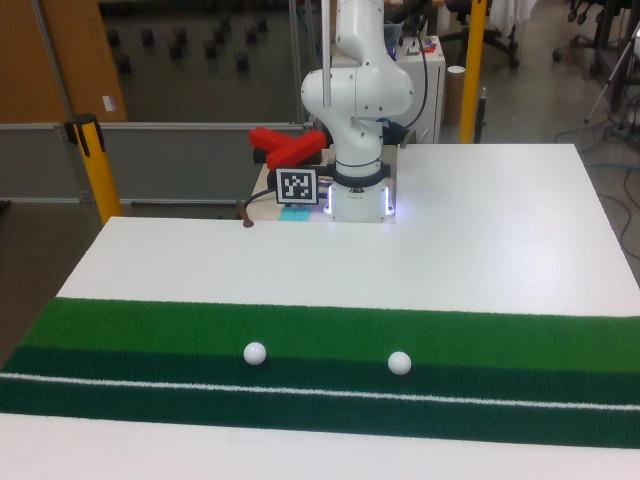golf_balls: (388, 351, 411, 375), (244, 342, 266, 365)
